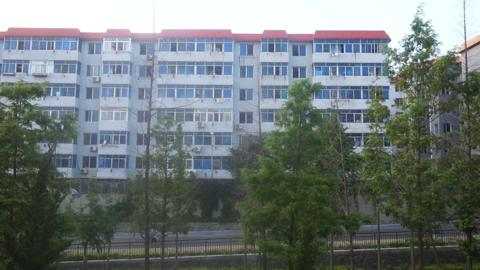UAV: (146, 106, 157, 112)
